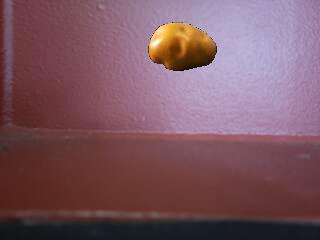Potato: (147, 23, 218, 72)
